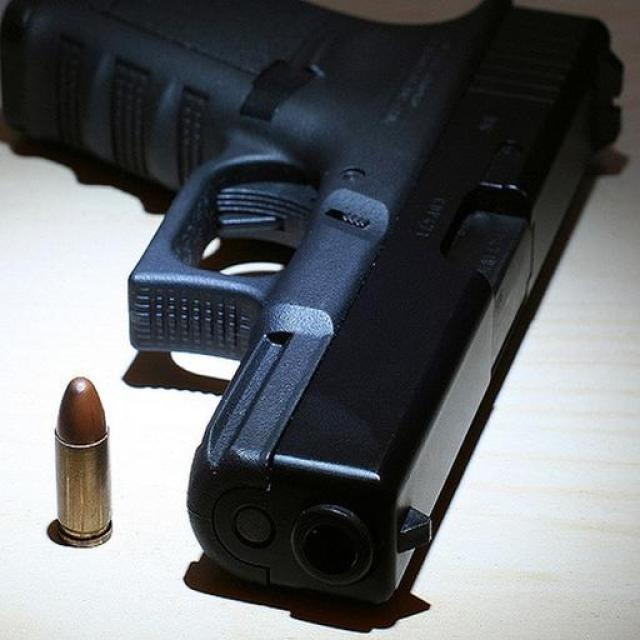pistol: (1, 1, 623, 613)
